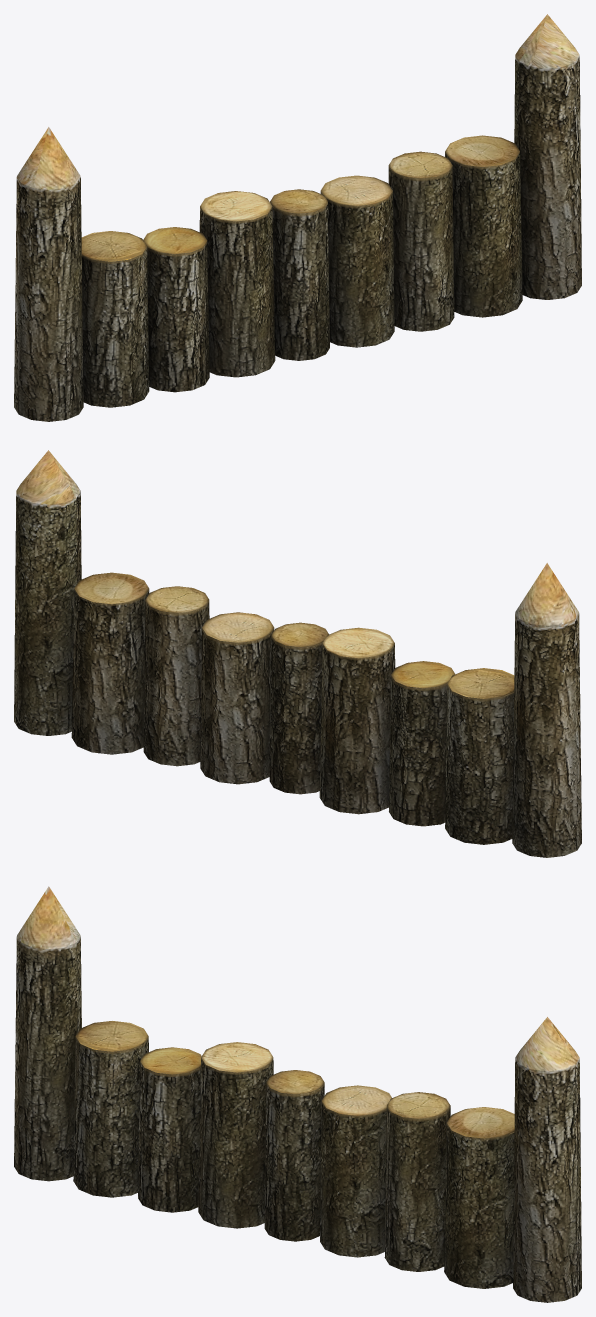
Rendered from Wooden_Wall_Fence_01_hi.FBX.
3 views of the same model, one above another, from view 1: azimuth 30°, elevation 25°; view 2: azimuth 150°, elevation 25°; view 3: azimuth 330°, elevation 25° (orthographic).
Visible parts, largest first — view 1: Wooden_Wall_Fence_01_hi; view 2: Wooden_Wall_Fence_01_hi; view 3: Wooden_Wall_Fence_01_hi.
Part boxes in pixels (box(x1,y1,x2,y2)): Wooden_Wall_Fence_01_hi: box(14, 14, 581, 421); Wooden_Wall_Fence_01_hi: box(14, 450, 581, 857); Wooden_Wall_Fence_01_hi: box(14, 886, 581, 1302).
Size of the model in its own units: 24.78 by 11.89 by 3.08.
1 material, 1 textured.
